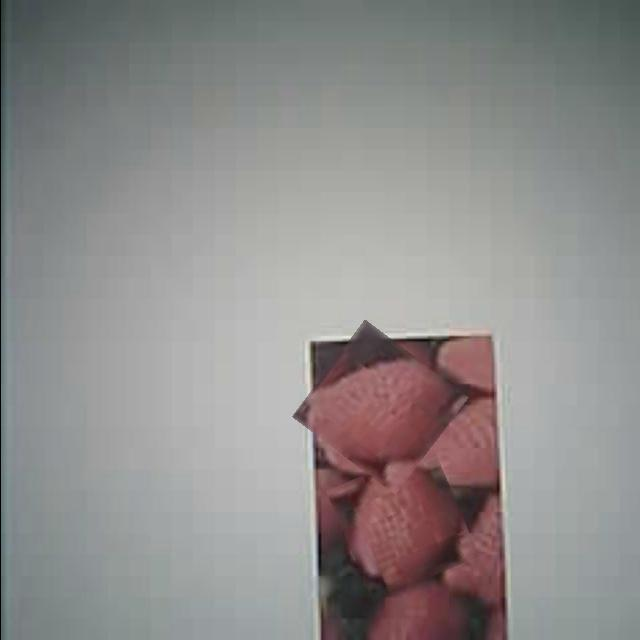strawberry: (303, 332, 457, 482), (334, 454, 468, 592)
